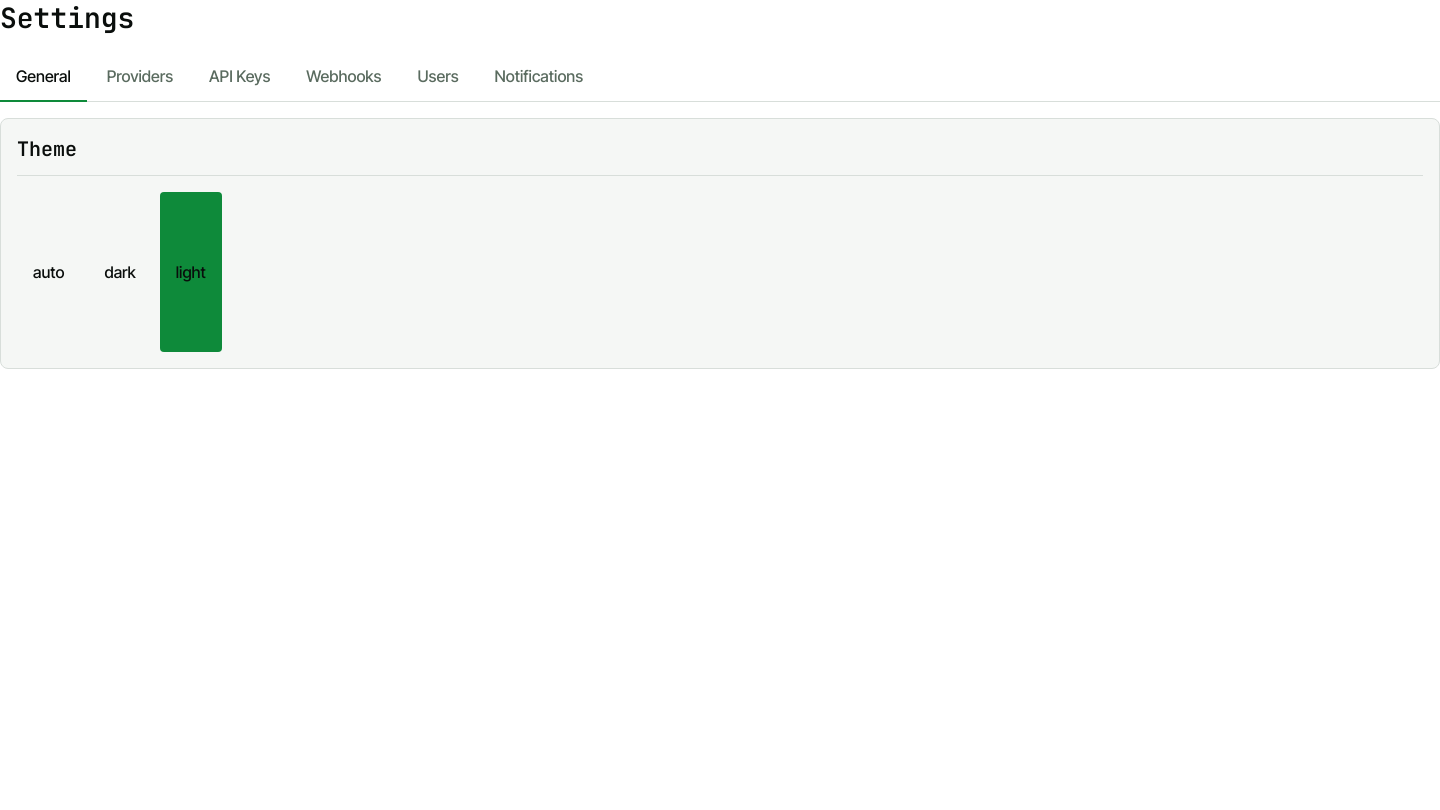
Settings › surfaces webhook create failures
Click the tab "Webhooks" at (344, 77), box [290,52,397,102]
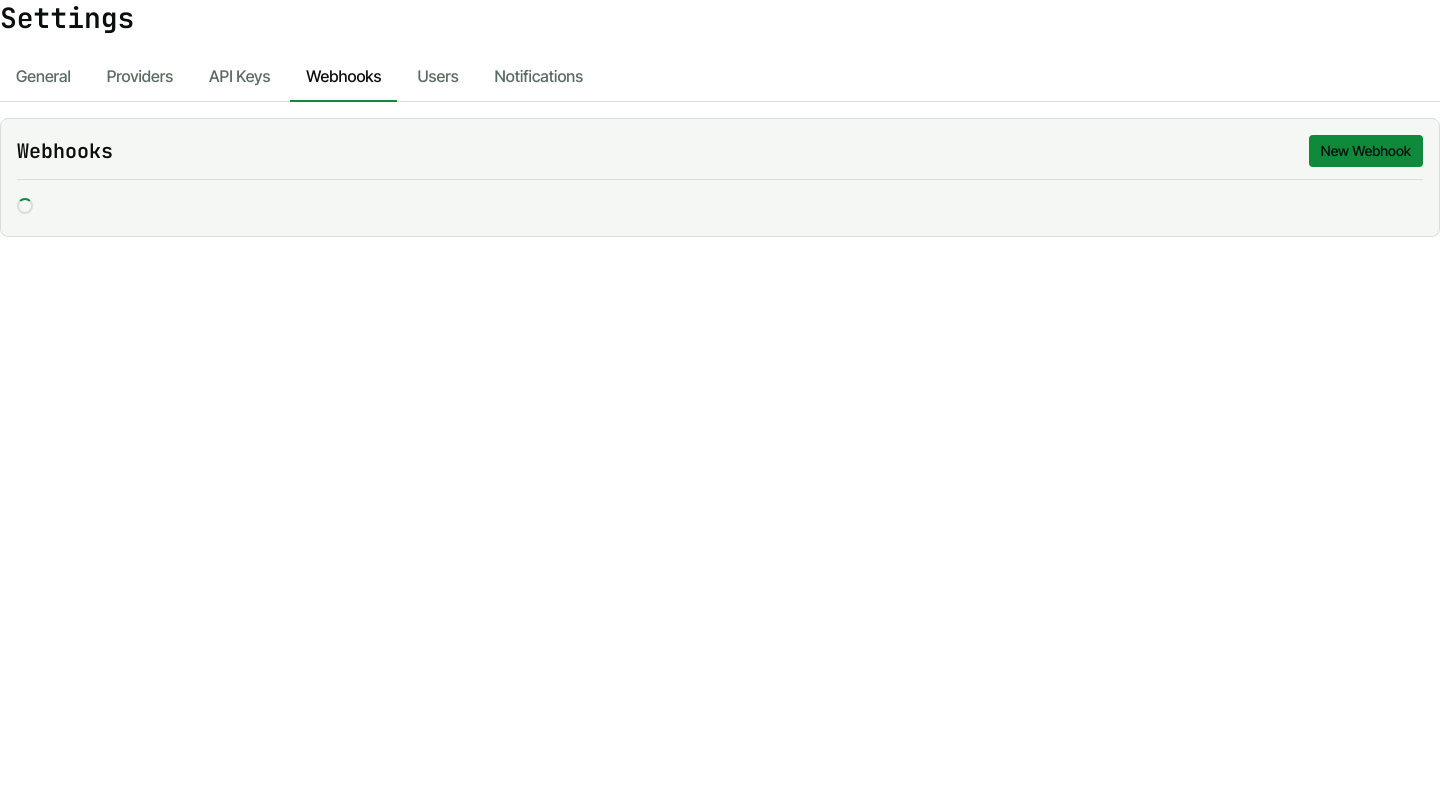
Now the button "New Webhook" is shown
Click the button "New Webhook" at (1366, 151), box [1309,135,1423,167]
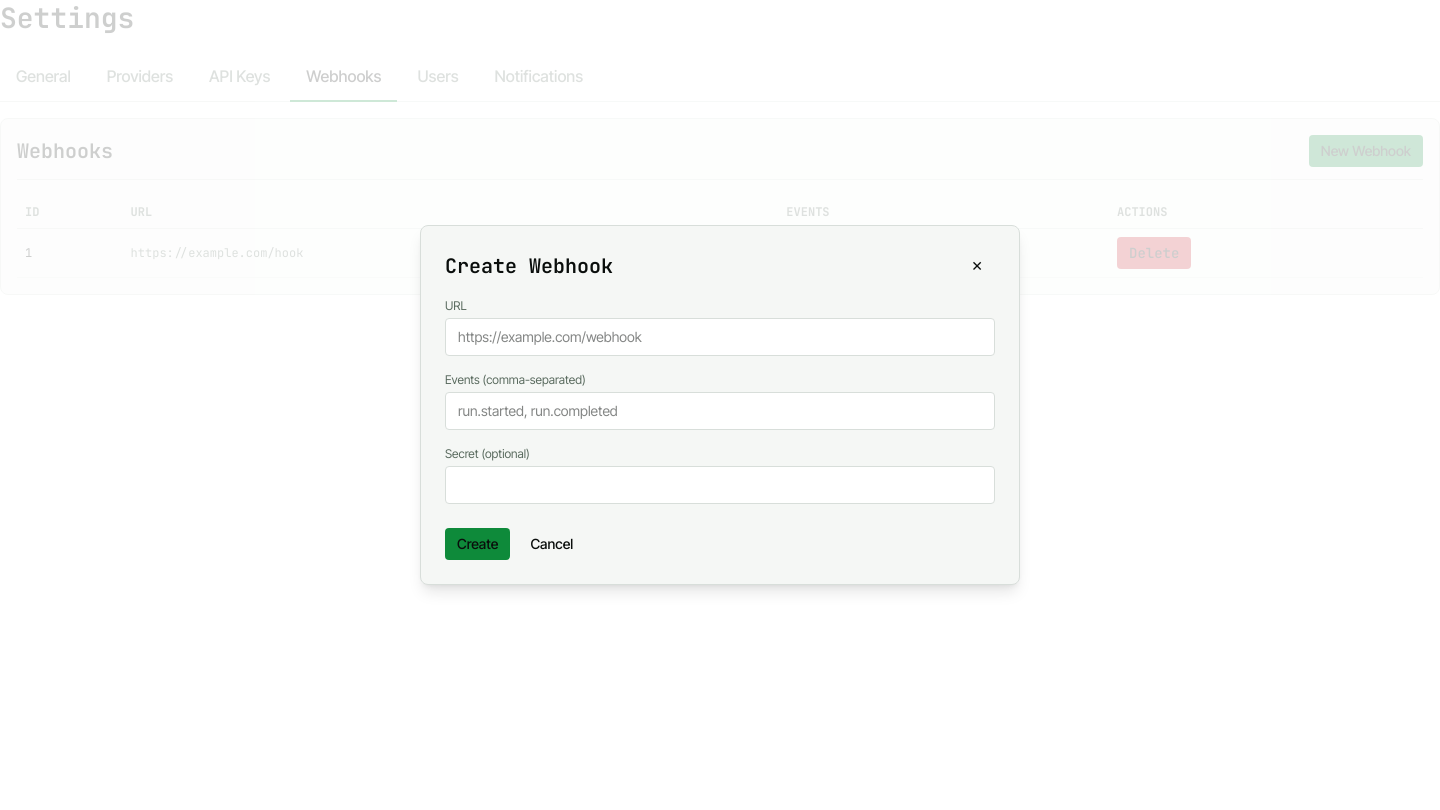
Type "bad-url" into the field with placeholder "https://example.com/webhook" at (720, 337), box [445,318,995,356]
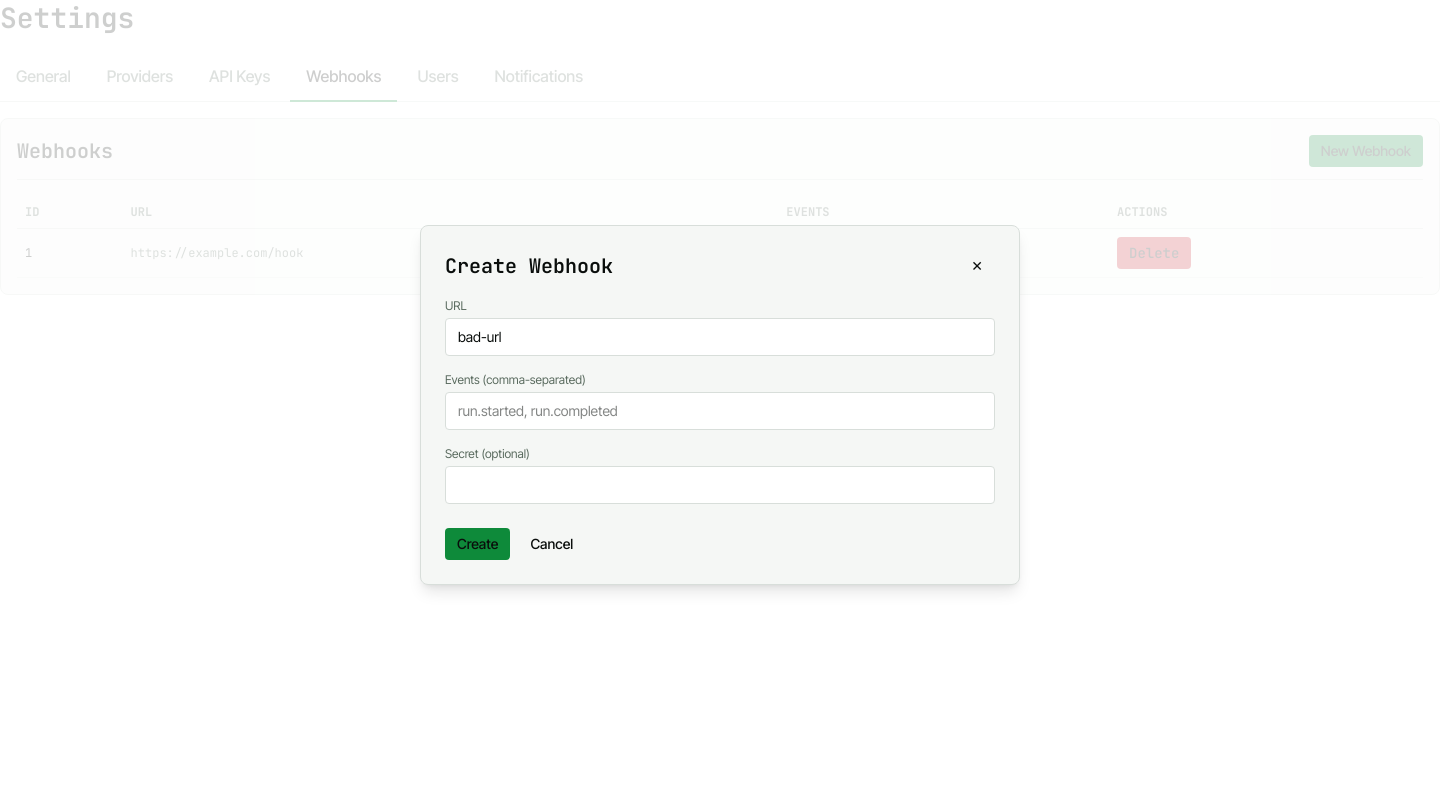
Click the button "Create" at (478, 544), box [445,528,510,560]
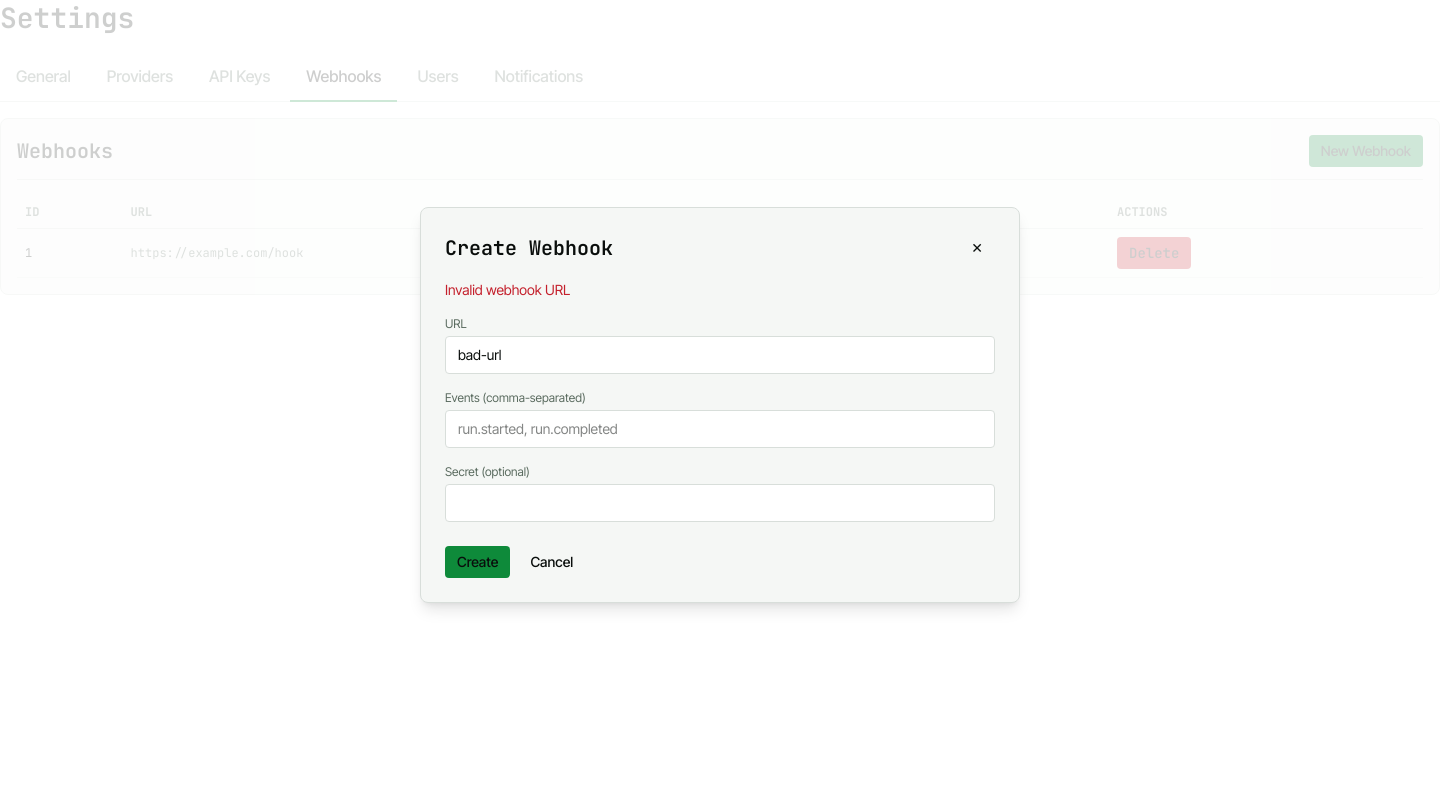
Now the message reads "Invalid webhook URL", box [445,281,570,298]
